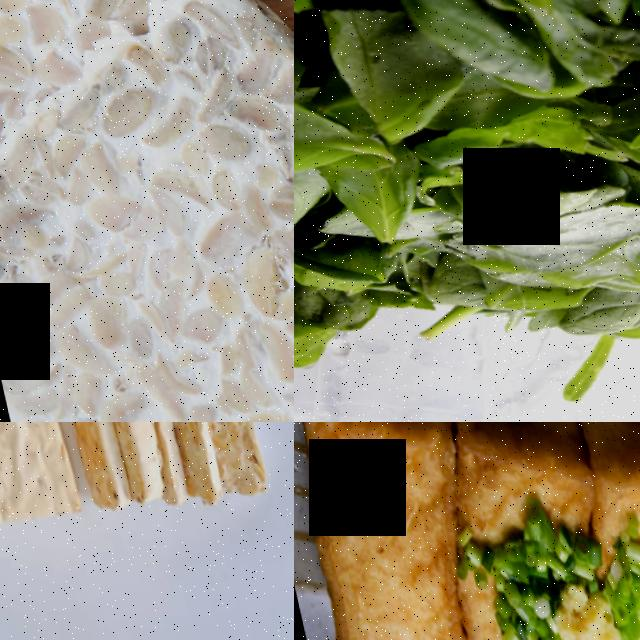tempeh: (0, 0, 294, 422), (38, 422, 127, 511), (180, 422, 273, 497), (84, 422, 165, 496), (142, 422, 222, 495)
tofu: (294, 422, 464, 603), (430, 422, 588, 528), (567, 422, 640, 547)
